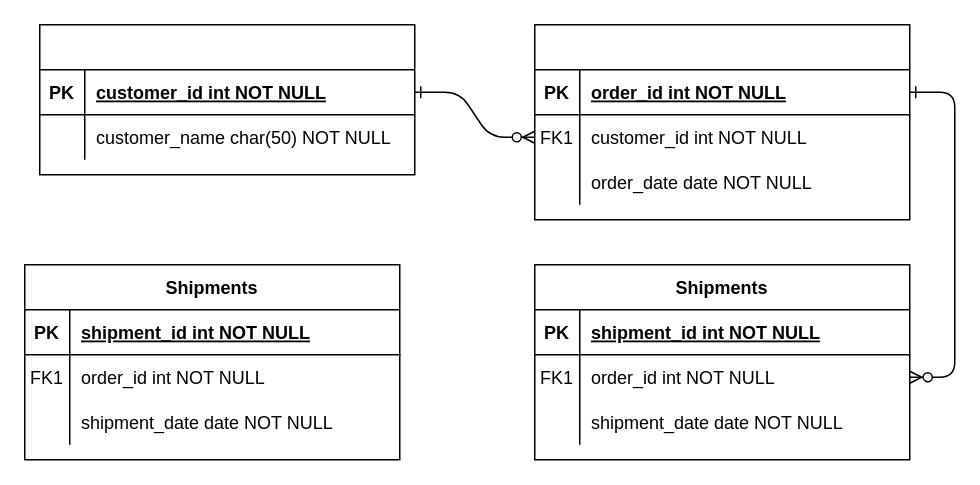
Image size: 980x485. Some labels were removed from this diagram. The shapes that lost their labels are listed below. From the top down, each one's box as (x1, y1, x2, y2) in pixels, then its label:
(38, 23, 415, 175): Customers
(533, 23, 910, 220): Orders
